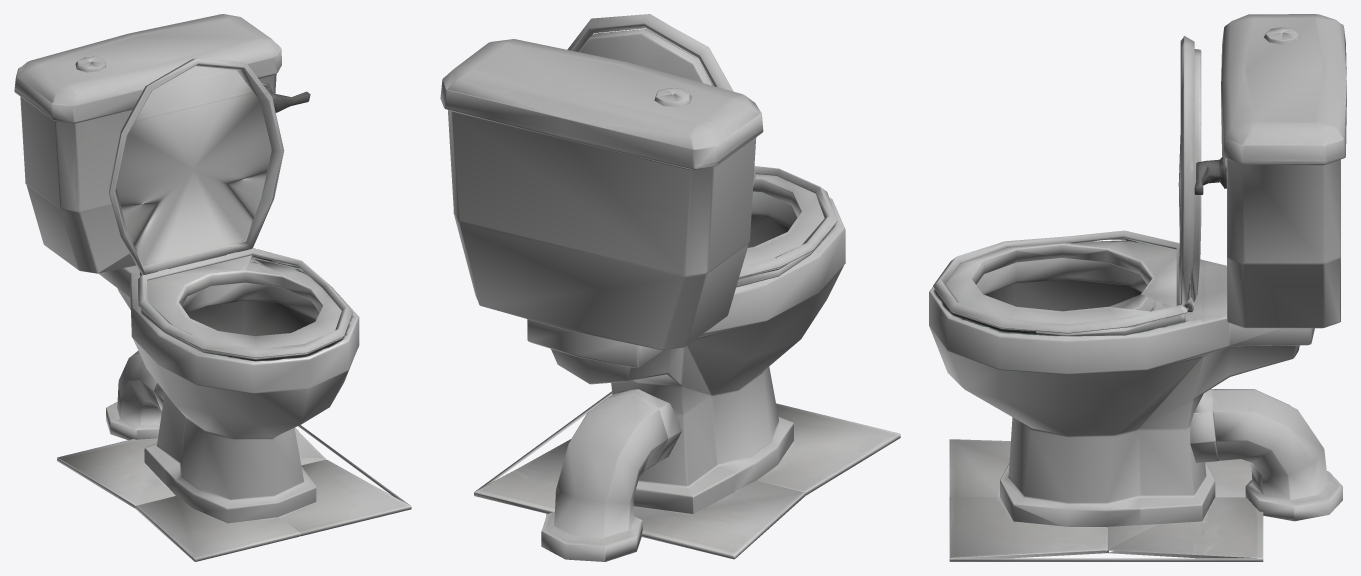
The model's file is 레벨3_화장실 변기.glb.
The picture shows the model from 3 angles, left to right: view 1: azimuth 30°, elevation 25°; view 2: azimuth 150°, elevation 25°; view 3: azimuth 270°, elevation 25°; orthographic projection. The views are drawn at different scales.
Parts seen in each view (by area): view 1: tripo_node_84d796ea-702c-478d-99f8-e3d00964b722; view 2: tripo_node_84d796ea-702c-478d-99f8-e3d00964b722; view 3: tripo_node_84d796ea-702c-478d-99f8-e3d00964b722.
Part boxes in pixels (x1,y1,x2,y2): tripo_node_84d796ea-702c-478d-99f8-e3d00964b722: (14, 14, 411, 561); tripo_node_84d796ea-702c-478d-99f8-e3d00964b722: (440, 14, 900, 561); tripo_node_84d796ea-702c-478d-99f8-e3d00964b722: (929, 14, 1346, 561).
Size of the model in its own units: 0.6191 by 0.998 by 0.83.
1 material, 1 textured.
